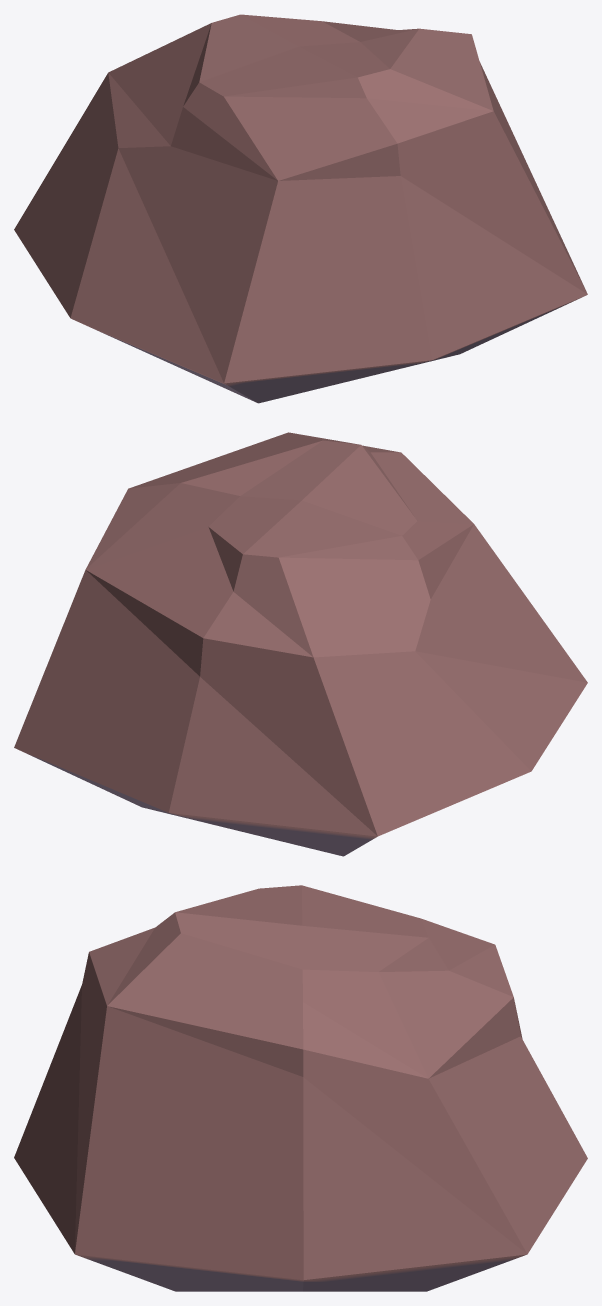
File: Roca3.fbx
3 renders of one model, top to bottom at view 1: azimuth 30°, elevation 25°; view 2: azimuth 150°, elevation 25°; view 3: azimuth 270°, elevation 25°, orthographic. The views are drawn at different scales.
Visible parts, largest first — view 1: Cube; view 2: Cube; view 3: Cube.
Boxes of the visible parts, left/top/right/bottom form: Cube: left=14, top=14, right=587, bottom=403; Cube: left=14, top=432, right=587, bottom=856; Cube: left=14, top=885, right=587, bottom=1291.
Size of the model in its own units: 457 by 286 by 457.
Materials: 1 (1 with a texture image).
